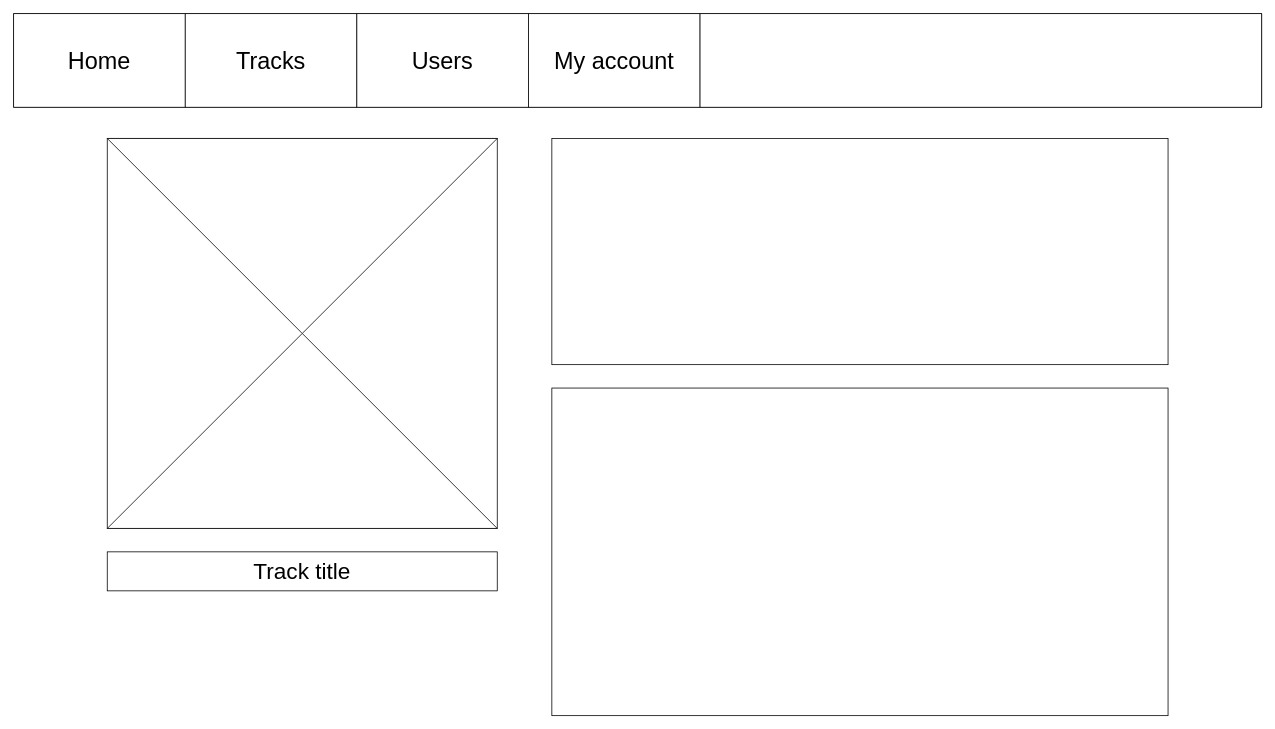
Image size: 1275x729. Some labels were removed from this diagram. Each missing label, with the centre of its shape:
"Times set on track (list)" belongs at (x=859, y=551).
"Track information" belongs at (x=859, y=251).
